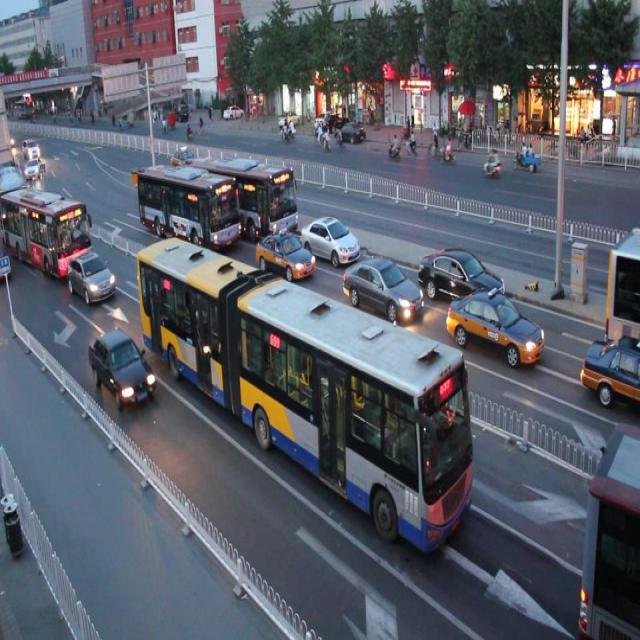car: (445, 290, 543, 370), (88, 326, 158, 409), (341, 257, 423, 326), (418, 247, 506, 304), (580, 330, 640, 406), (255, 230, 315, 280), (299, 216, 359, 266), (66, 250, 116, 307), (144, 170, 174, 196)
van: (136, 236, 472, 556), (578, 426, 640, 625), (136, 160, 242, 250), (192, 152, 298, 239), (1, 189, 91, 278), (603, 240, 640, 335)
